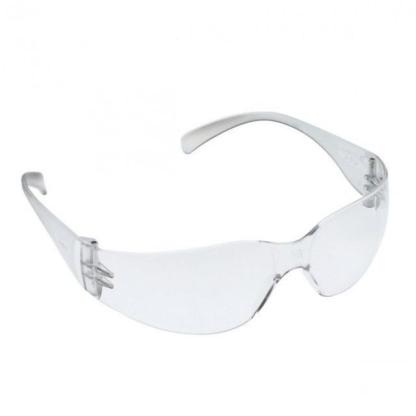oculos: (0, 105, 416, 339)
